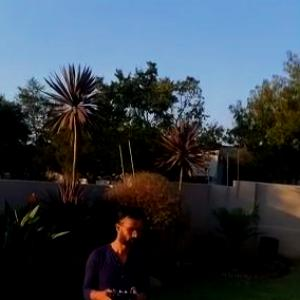follow: (79, 199, 154, 299)
